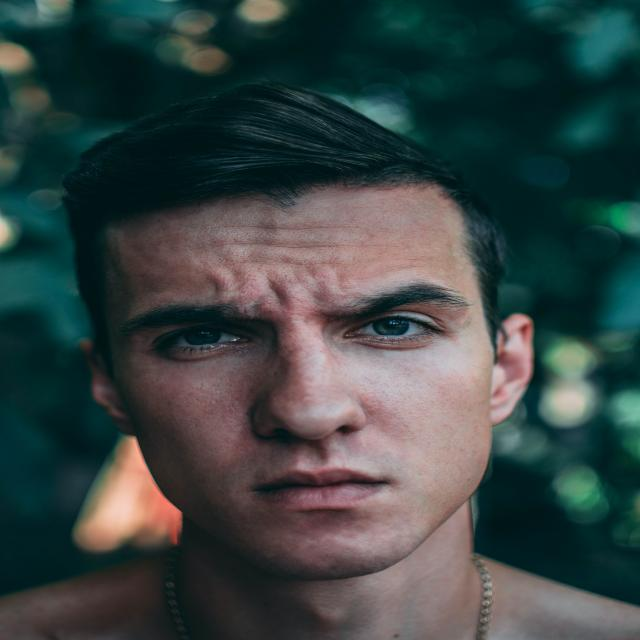sem_oculos: (61, 281, 571, 381)
